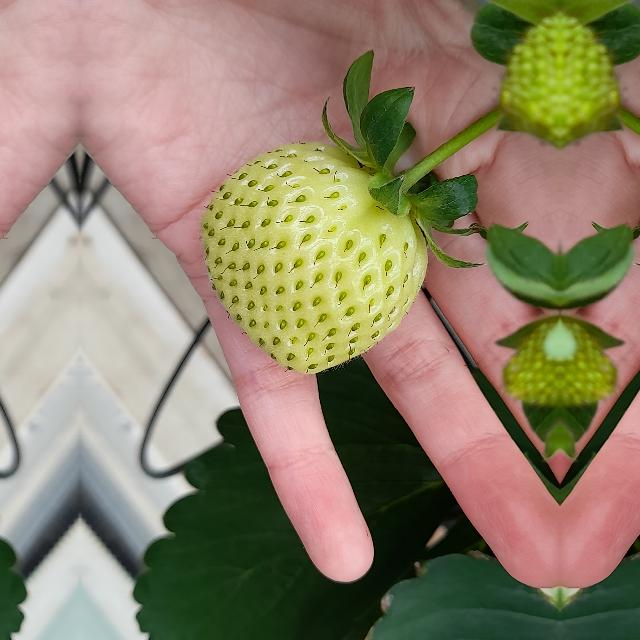Health_25: (201, 142, 427, 374)
